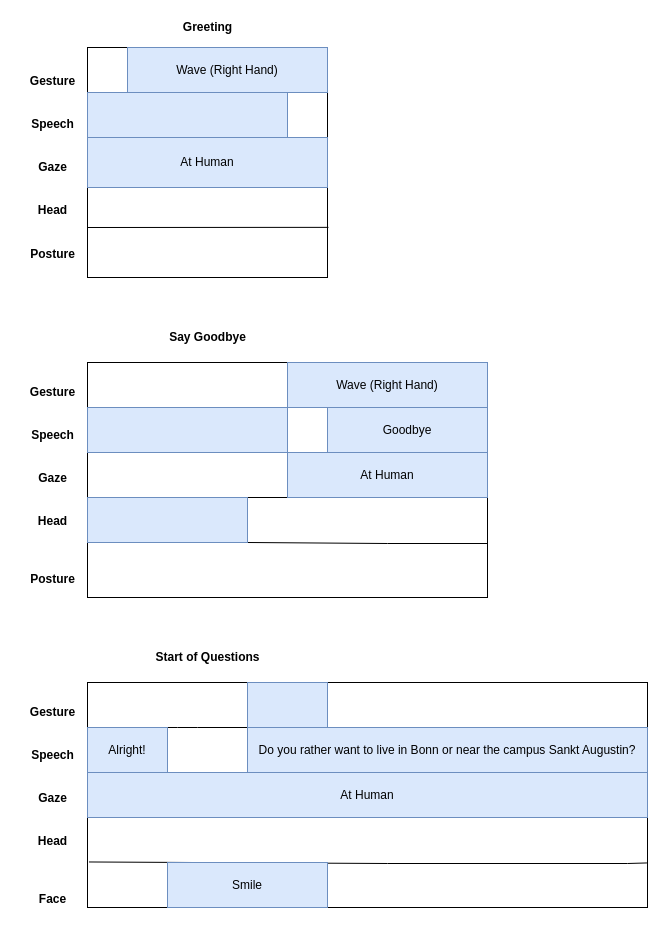
The diagram is 666 pixels wide and 932 high, and some of its shapes have lost their labels. Each missing label, with the centre of its shape:
"Hey, how can I help you?" goes at point (187, 115).
"It was nice meeting you" goes at point (187, 429).
"Nod (top to bottom to top)" goes at point (167, 519).
"Pointing" goes at point (287, 705).
